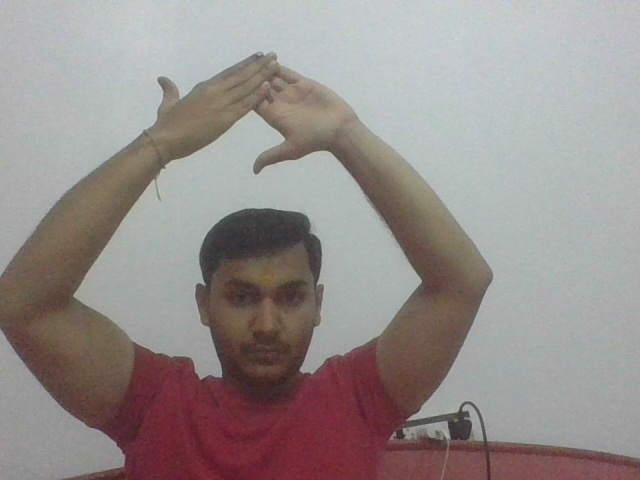H: (148, 50, 359, 176)
